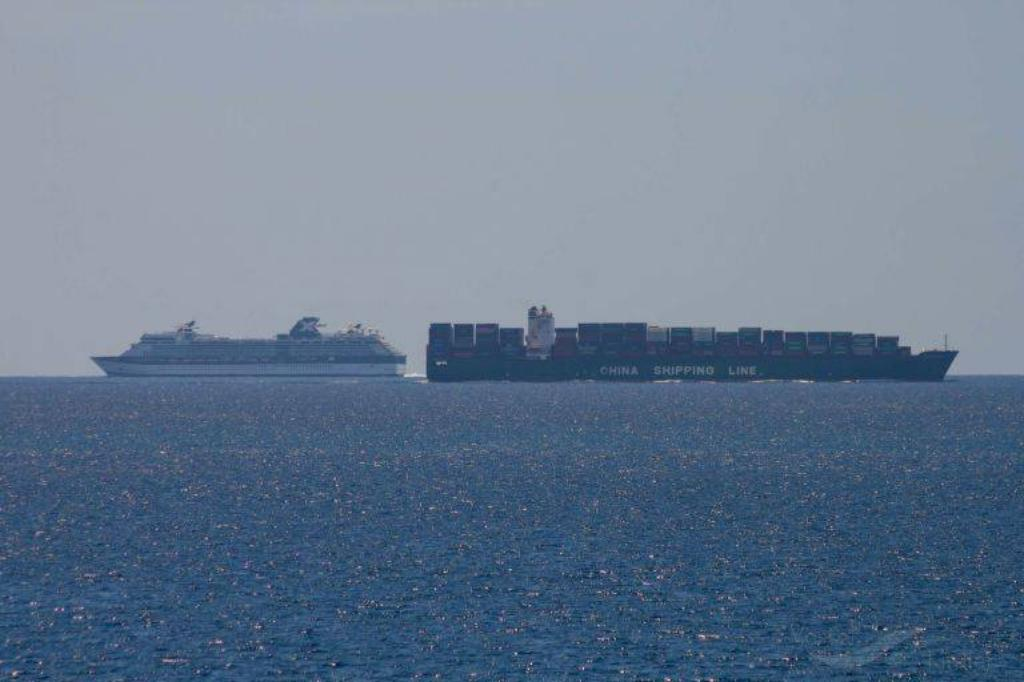PassengerShip: (88, 316, 410, 380)
